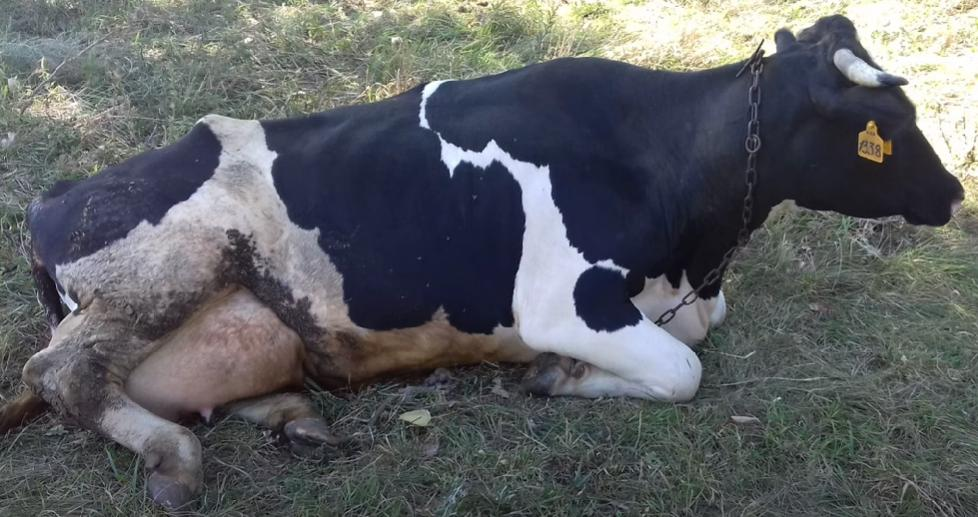cow: (26, 16, 958, 517)
